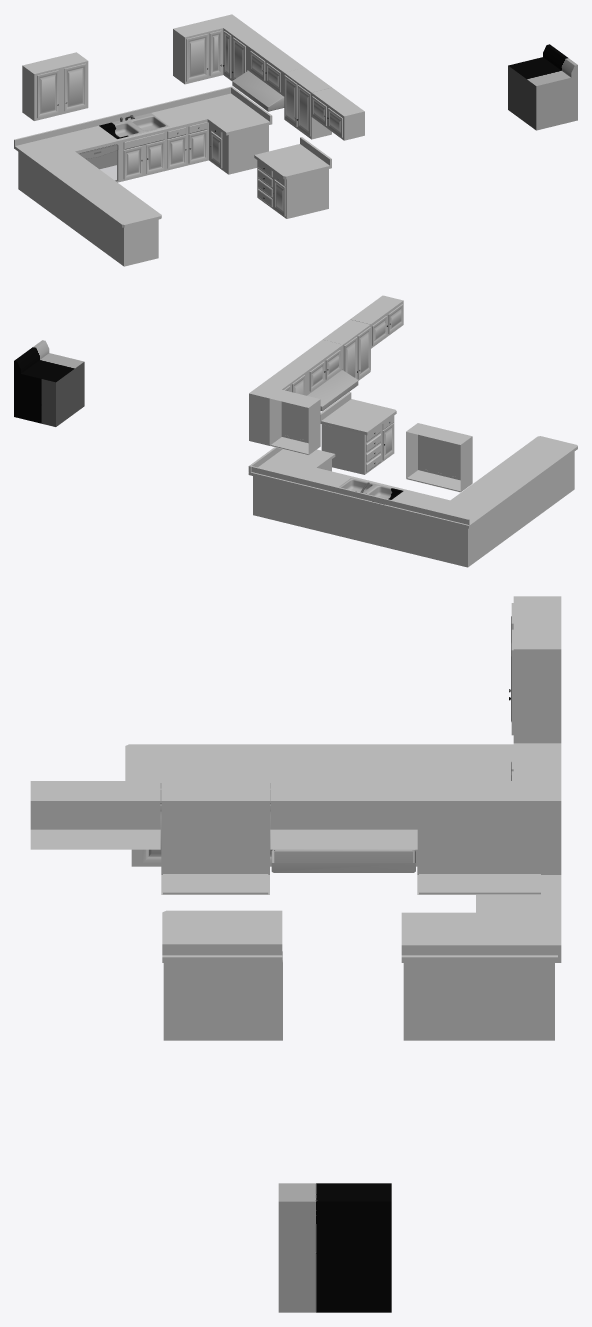
File: counter tops.fbx
3 views of the same model, one above another, from view 1: azimuth 30°, elevation 25°; view 2: azimuth 150°, elevation 25°; view 3: azimuth 270°, elevation 25° (orthographic). The views are drawn at different scales.
Visible parts, largest first — view 1: trim; view 2: trim; view 3: trim.
Boxes of the visible parts, x1,y1,x2,y2 form: trim: (14, 14, 577, 266); trim: (14, 295, 577, 567); trim: (30, 596, 561, 1312).
Size of the model in its own units: 1020 by 240 by 475.
